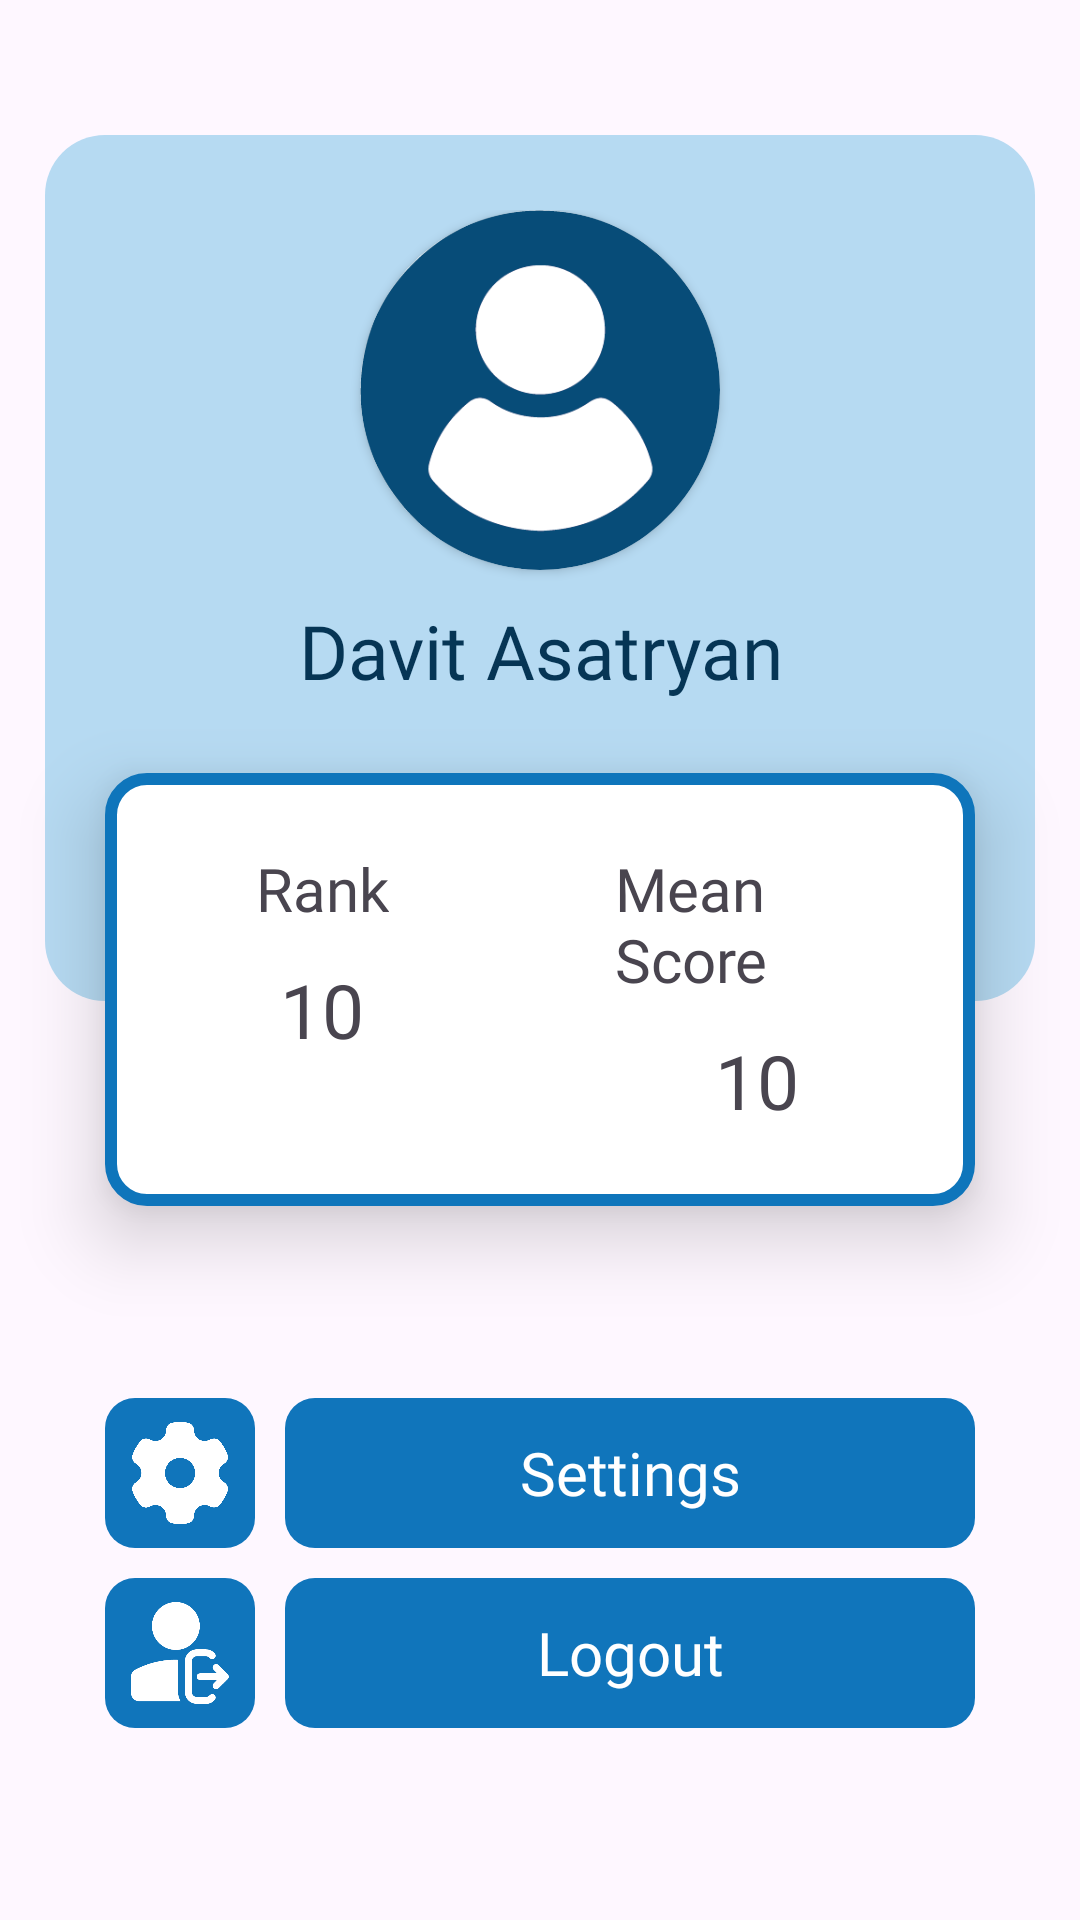

Locate icon controls on the screen. Image size 1080px x 1920px, boxes as [left=x1, top=y1, right=x2, bottom=y2].
profile picture: [left=360, top=210, right=720, bottom=570]
